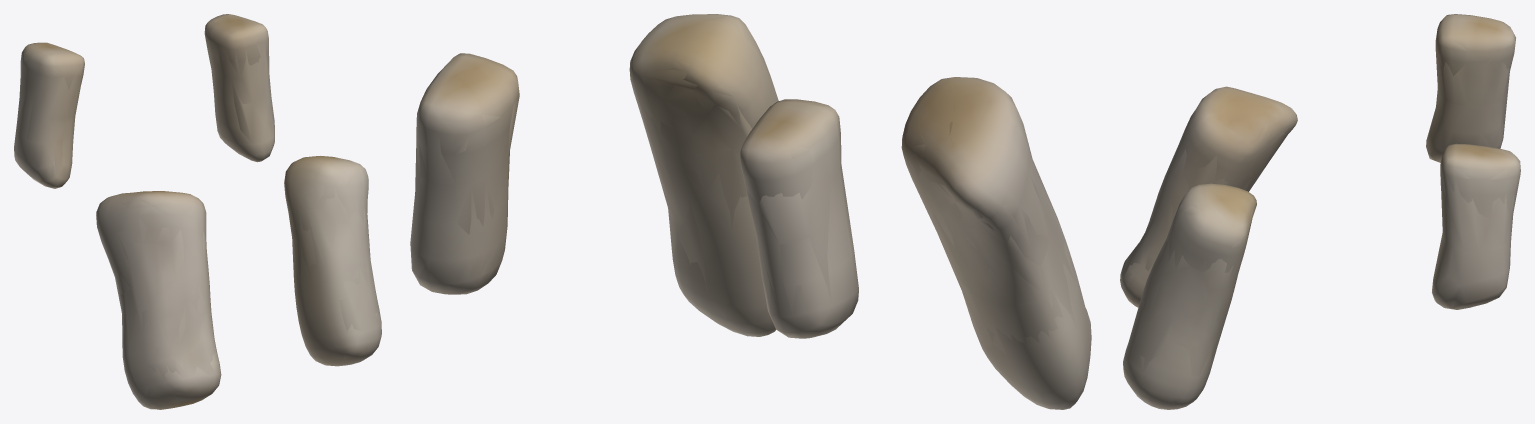
File: BR 1st Phalanx.fbx
The picture shows the model from 3 angles, left to right: view 1: azimuth 30°, elevation 25°; view 2: azimuth 150°, elevation 25°; view 3: azimuth 270°, elevation 25°; orthographic projection. The views are drawn at different scales.
Parts seen in each view (by area): view 1: BR 1st Phalanx, BR 1st Phalanx low; view 2: BR 1st Phalanx, BR 1st Phalanx low; view 3: BR 1st Phalanx, BR 1st Phalanx low.
Part boxes in pixels (x1=…): BR 1st Phalanx: x1=14, y1=14, x2=381, y2=409; BR 1st Phalanx low: x1=14, y1=26, x2=381, y2=409; BR 1st Phalanx: x1=410, y1=14, x2=1091, y2=409; BR 1st Phalanx low: x1=412, y1=16, x2=1089, y2=409; BR 1st Phalanx: x1=1120, y1=14, x2=1520, y2=409; BR 1st Phalanx low: x1=1121, y1=15, x2=1519, y2=409.
Bounding box in the file's own units: 3.17 × 3 × 3.66.
